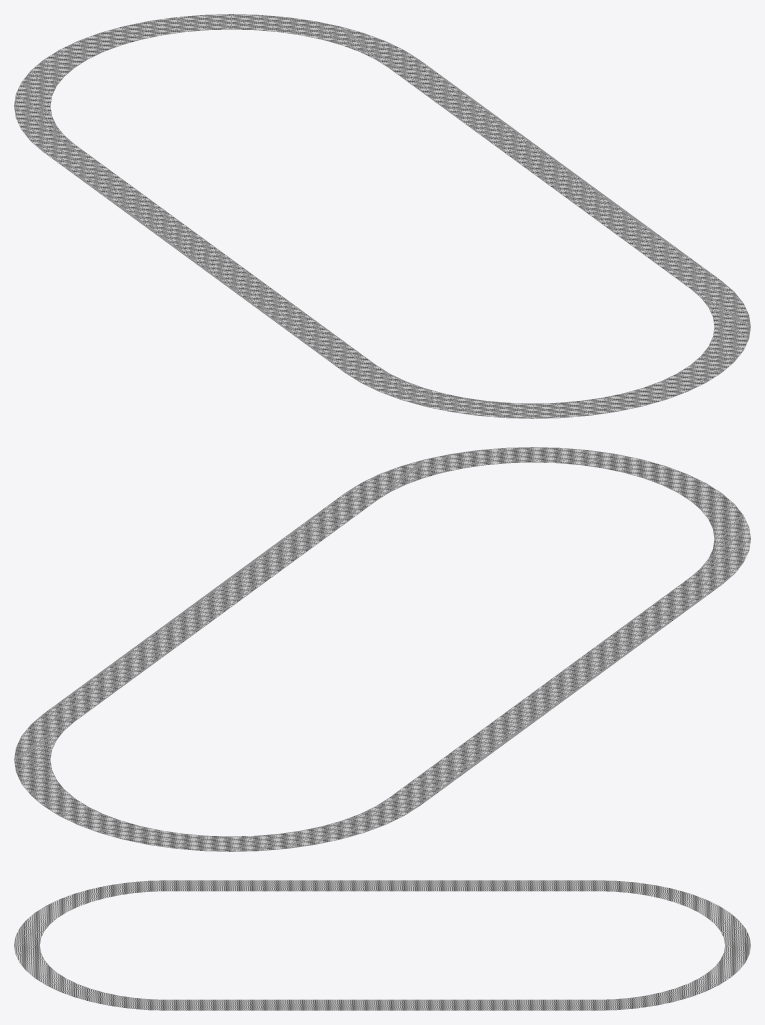
The model's file is racetrack_ovalLong.dae.
3 renders of one model, top to bottom at view 1: azimuth 30°, elevation 25°; view 2: azimuth 150°, elevation 25°; view 3: azimuth 270°, elevation 25°, orthographic. The views are drawn at different scales.
Parts seen in each view (by area): view 1: SketchUp; view 2: SketchUp; view 3: SketchUp.
Boxes of the visible parts, x1,y1,x2,y2 form: SketchUp: [14, 14, 750, 418]; SketchUp: [14, 447, 750, 851]; SketchUp: [14, 880, 750, 1010].
Size of the model in its own units: 9370 by 22362 by 0.
Materials: 1 (1 with a texture image).
